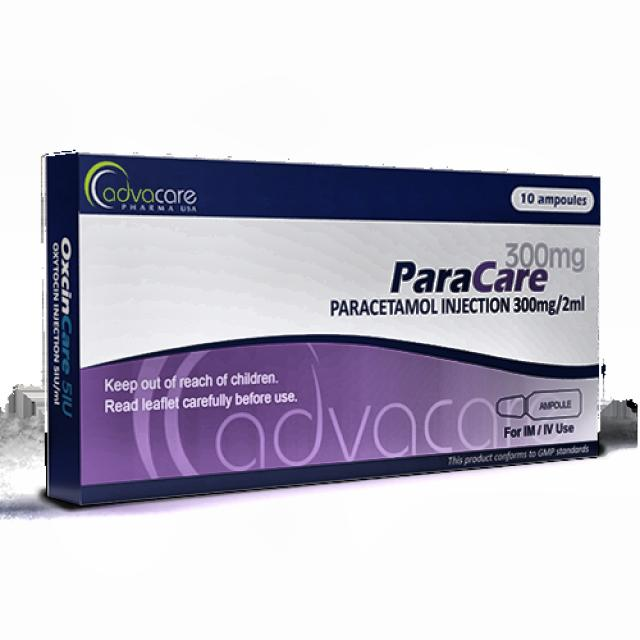Paracetamol: (297, 225, 604, 332)
